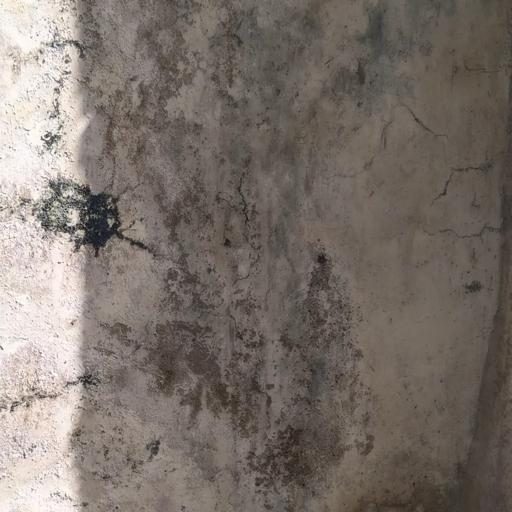stain: (38, 9, 454, 471)
